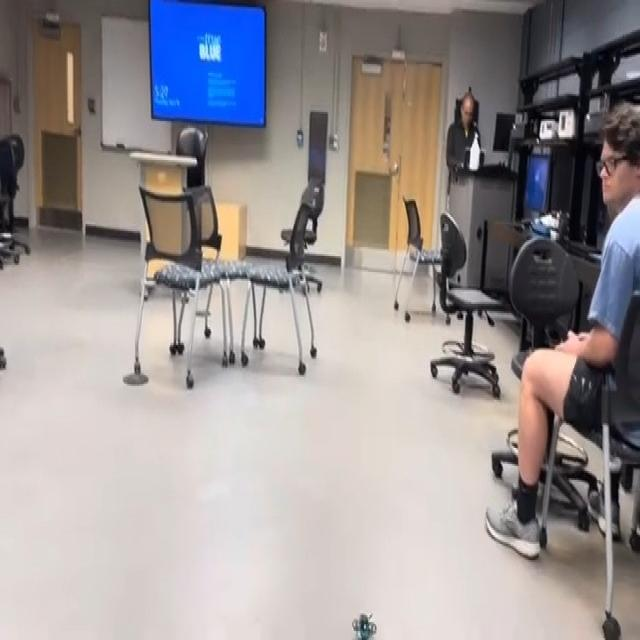drone: (343, 588, 382, 640)
